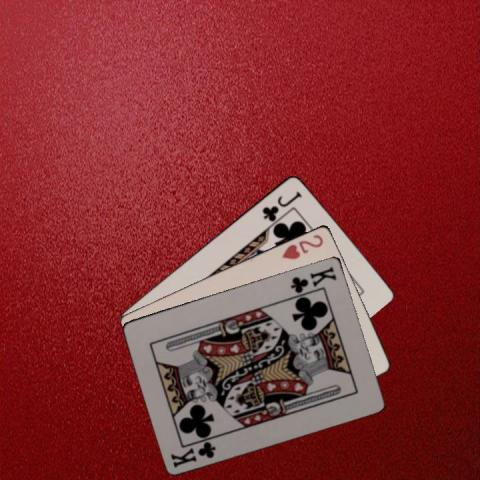2h: (279, 230, 325, 260)
Jc: (259, 188, 303, 222)
Kc: (287, 263, 338, 293), (168, 438, 217, 469)
